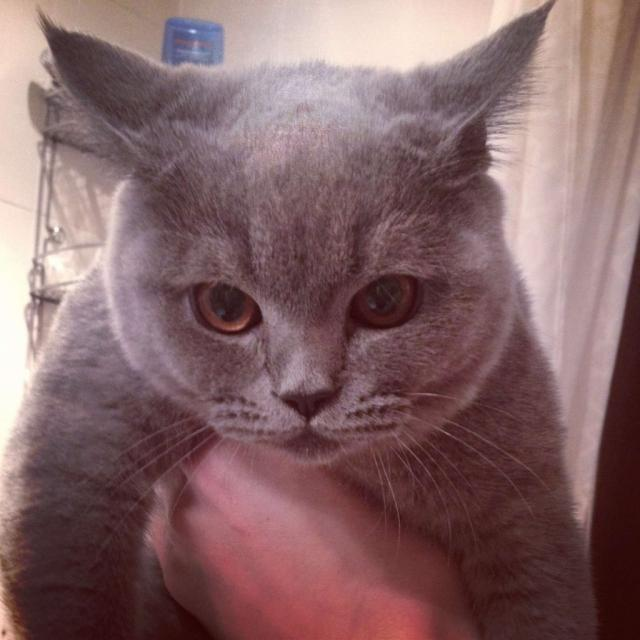Cat: (0, 0, 600, 639)
